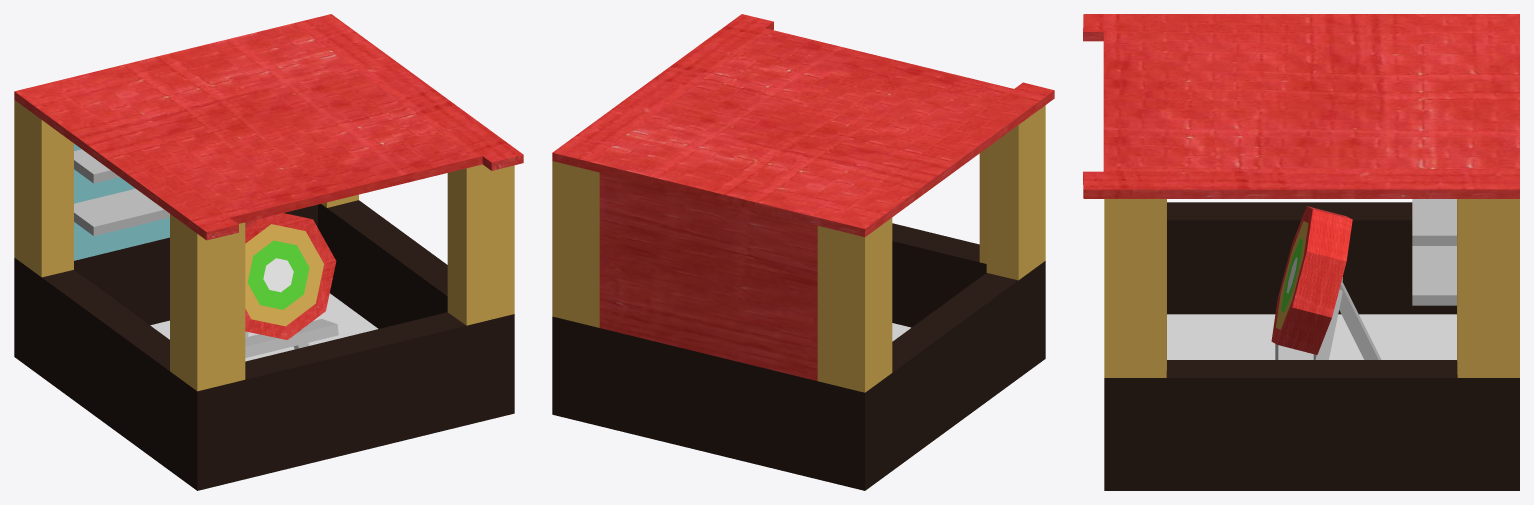
File: CarnivalBooths.fbx
3 renders of one model, left to right at view 1: azimuth 30°, elevation 25°; view 2: azimuth 150°, elevation 25°; view 3: azimuth 270°, elevation 25°, orthographic. The views are drawn at different scales.
Visible parts, largest first — view 1: Booth_Type_A, Cube.001; view 2: Booth_Type_A; view 3: Booth_Type_A, Cube.001.
Part boxes in pixels (x1,y1,x2,y2): Booth_Type_A: (14,14,523,490); Cube.001: (245,213,338,357); Booth_Type_A: (552,14,1054,490); Booth_Type_A: (1083,14,1519,490); Cube.001: (1271,206,1381,359).
Bounding box in the file's own units: 200 × 165 × 210.
